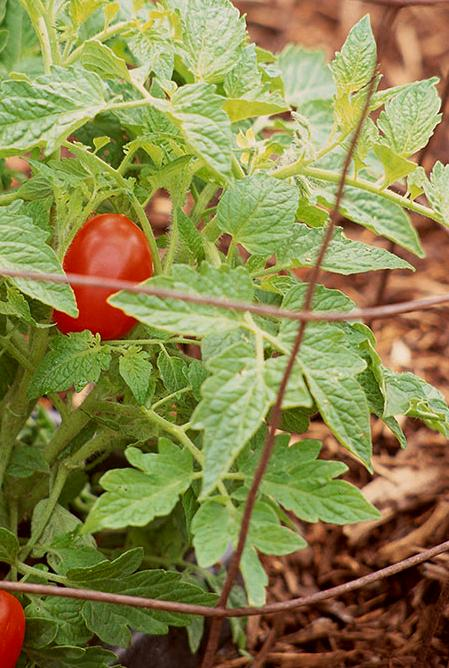Tomato leaf: (262, 320, 379, 475), (185, 334, 292, 490), (57, 553, 219, 641), (86, 442, 207, 542), (260, 433, 386, 527), (321, 166, 428, 260), (0, 71, 110, 162), (0, 187, 76, 314), (114, 272, 246, 337), (165, 0, 252, 86), (223, 166, 301, 260), (23, 327, 118, 401), (377, 78, 442, 157), (336, 14, 389, 109)
